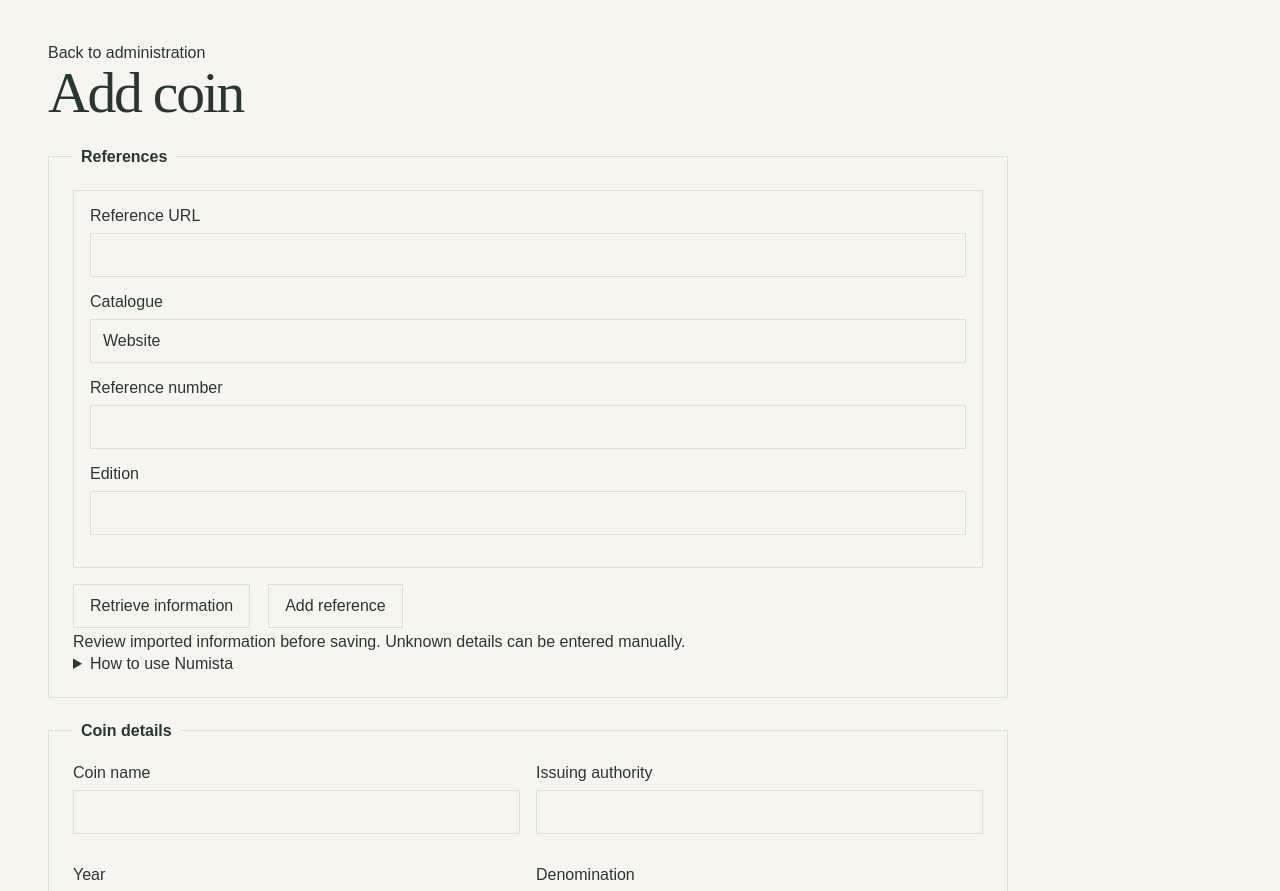
Test: coin editor › requires explicit application of imported suggestions
Step 1. Type "My name" into the field labelled "Coin name" → (296, 812), box [73, 790, 520, 834]
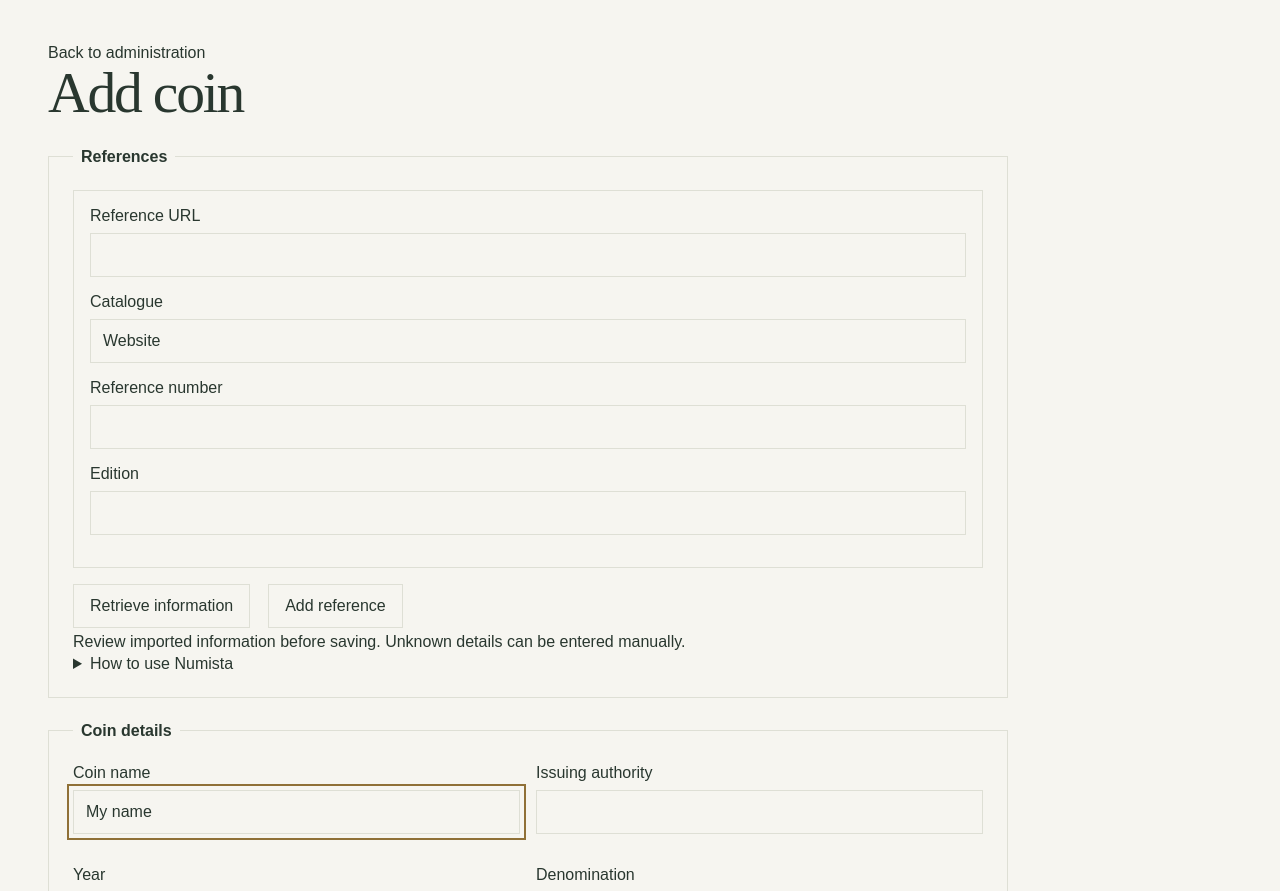
Step 2. Type "https://example.com/coin" into the field labelled "Reference URL" → (528, 255), box [90, 233, 966, 277]
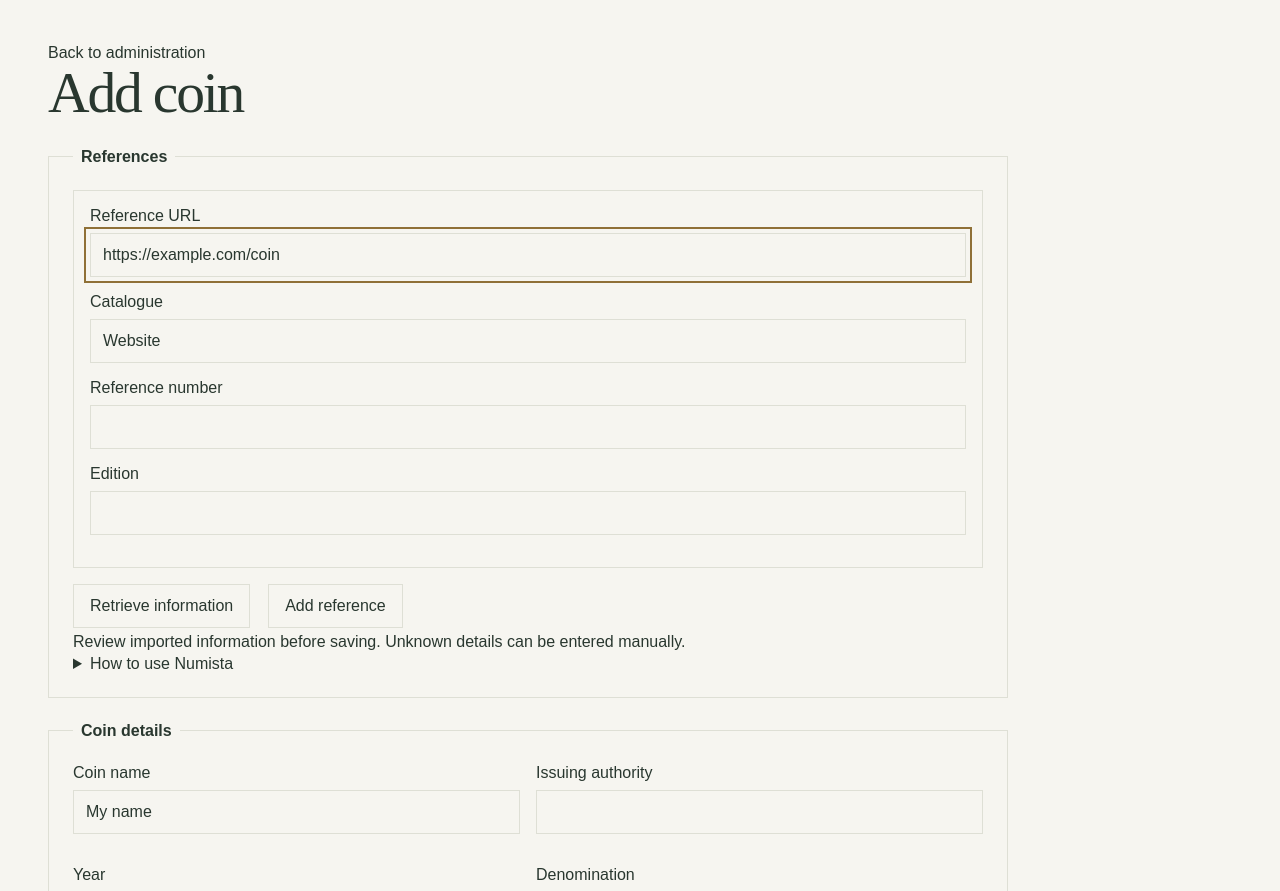
Step 3. Click the button "Retrieve information" → (162, 606), box [73, 584, 250, 628]
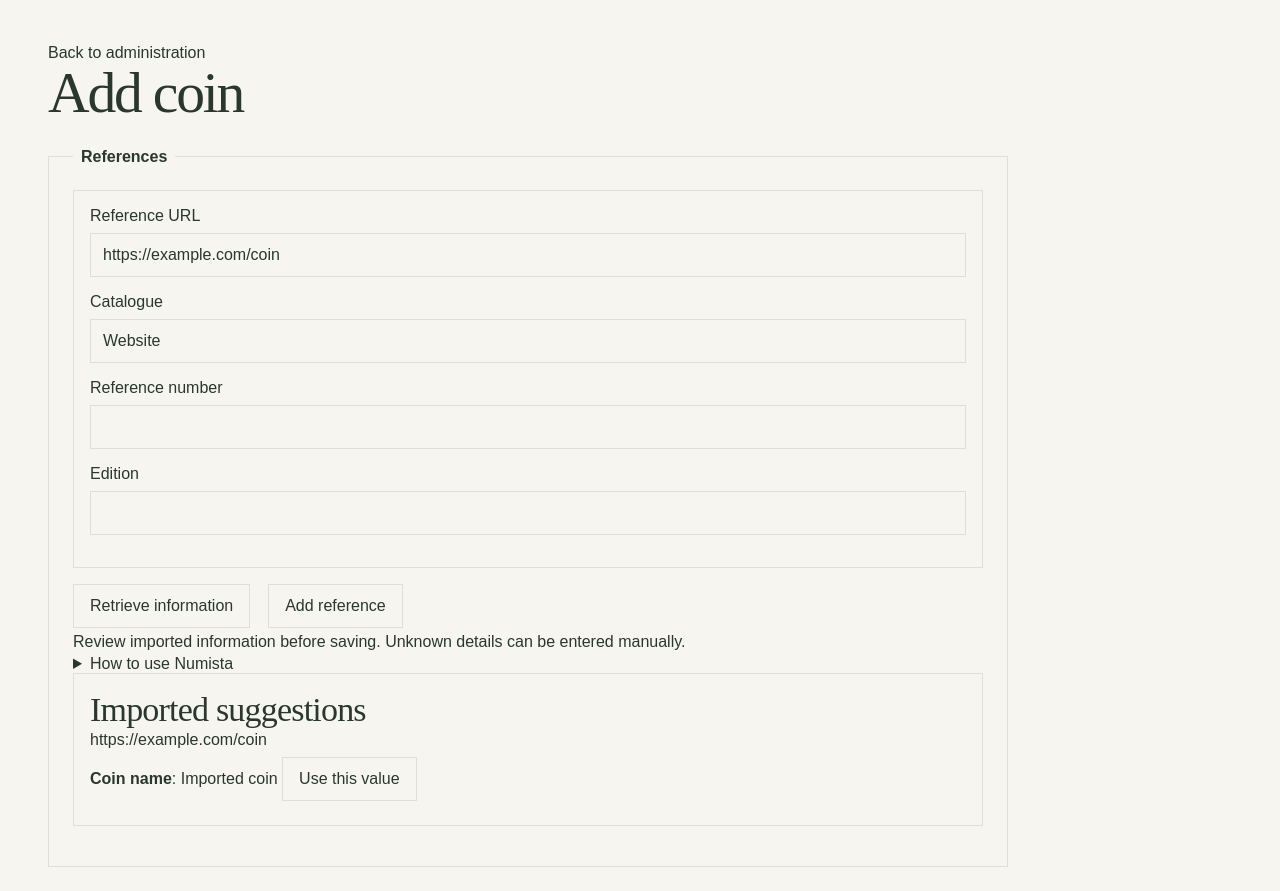
expect the text "Imported coin" is shown: met, box [181, 770, 278, 787]
Step 4. Click the button "Use this value" → (349, 779), box [282, 757, 417, 801]
(page scrolled)
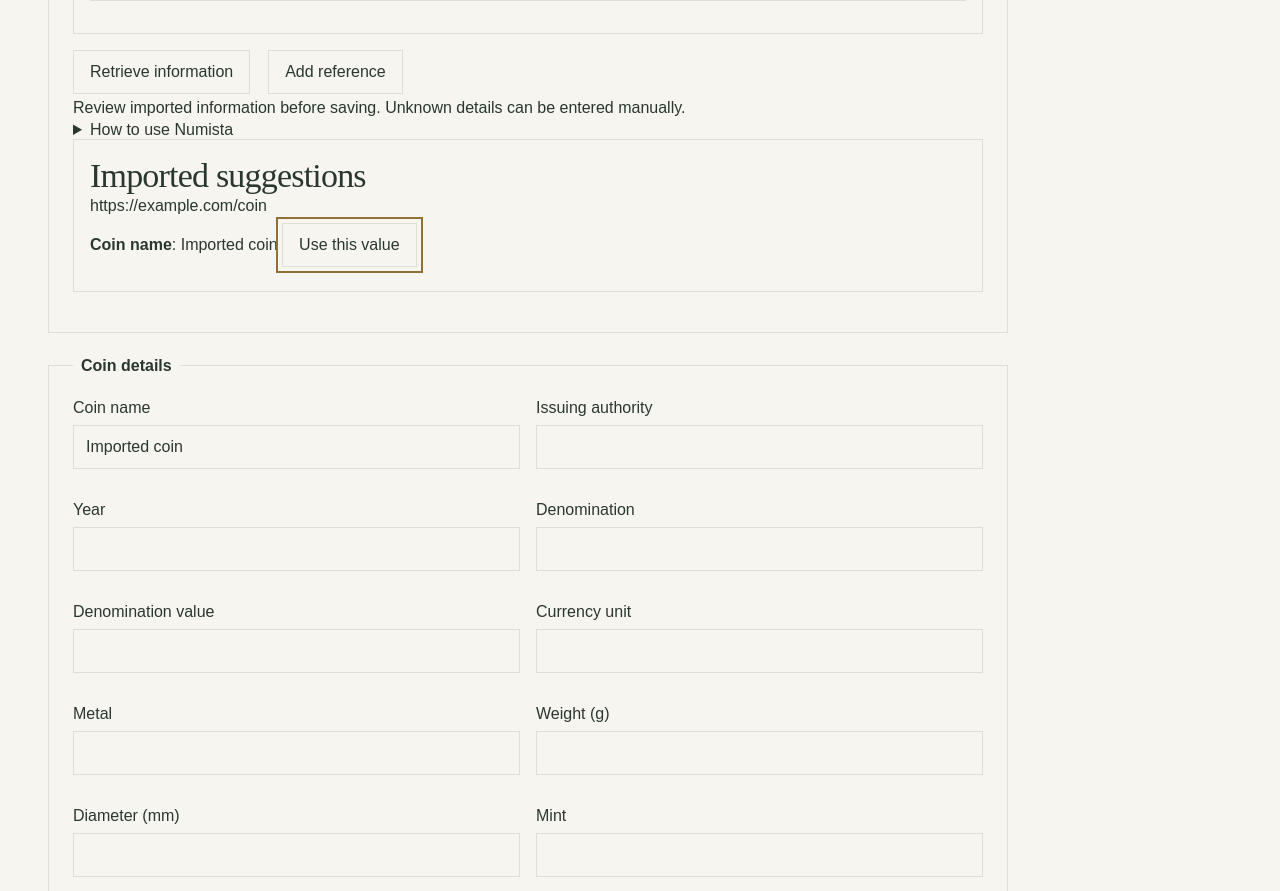
expect the field labelled "Coin name" holds "Imported coin": met, box [73, 425, 520, 469]
